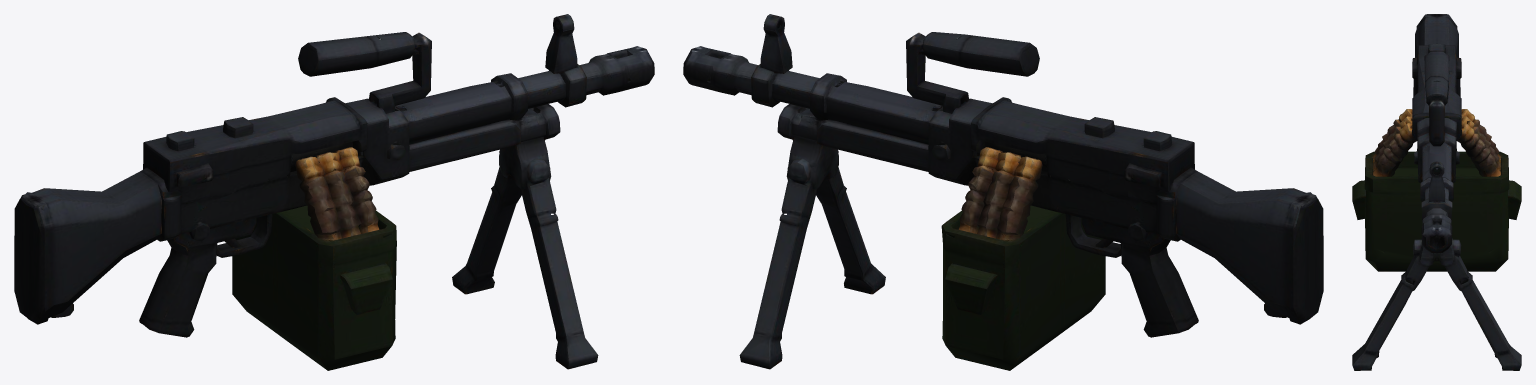
Rendered from belt_fed_light_machine_gun.glb.
3 renders of one model, left to right at view 1: azimuth 30°, elevation 25°; view 2: azimuth 150°, elevation 25°; view 3: azimuth 270°, elevation 25°, orthographic. The views are drawn at different scales.
Parts seen in each view (by area): view 1: world; view 2: world; view 3: world.
Boxes of the visible parts, x1,y1,x2,y2 form: world: (14,14,654,370); world: (683,14,1323,370); world: (1352,14,1521,370).
Size of the model in its own units: 1 by 0.5093 by 0.3272.
1 material, 1 textured.
